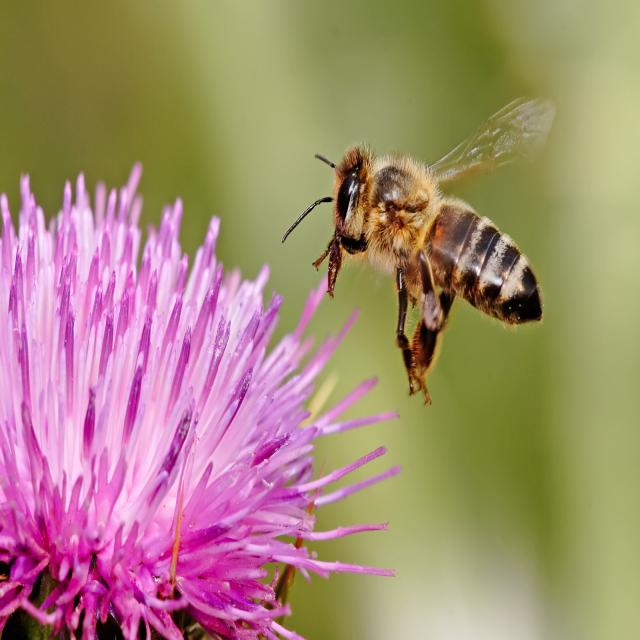Meliponula: (289, 84, 569, 426)
